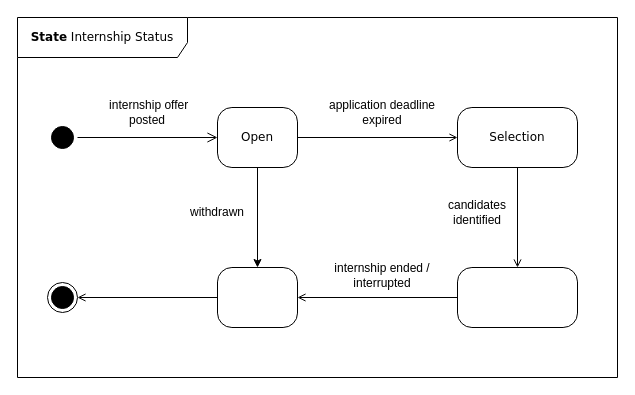
This 635x395 diagram has some shape labels left out. Each missing label, with the centre of its shape:
"Closed" goes at point (257, 297).
"Ongoing" goes at point (517, 297).
